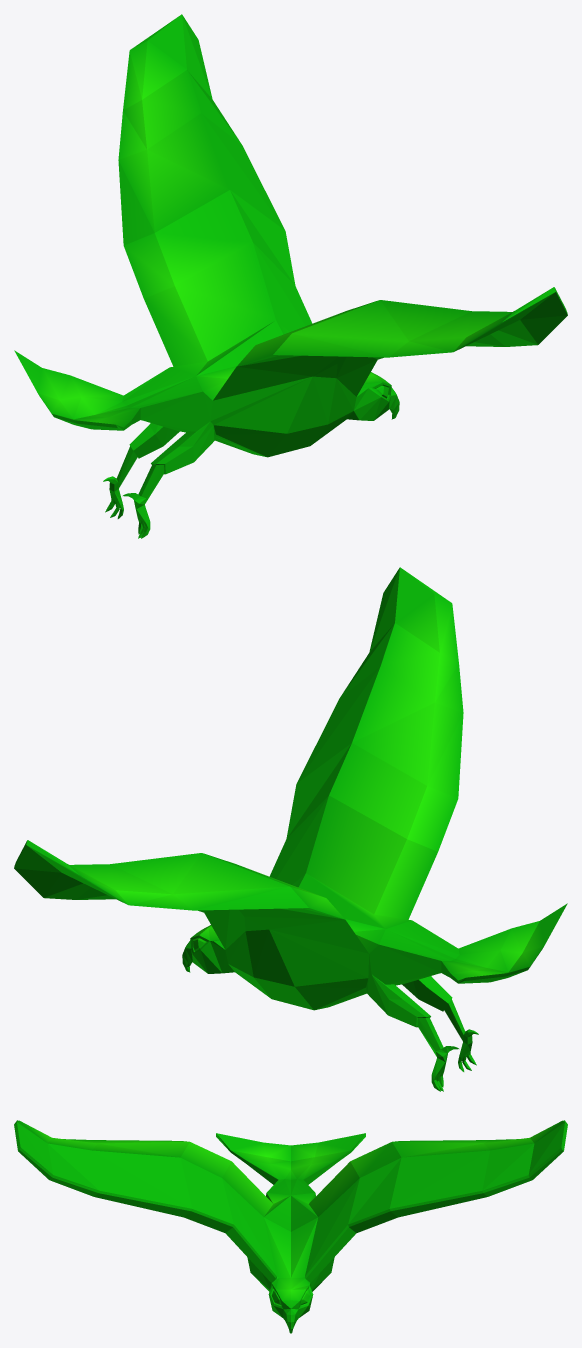
Rendered from bird.dae.
3 views of the same model, one above another, from view 1: azimuth 30°, elevation 25°; view 2: azimuth 150°, elevation 25°; view 3: azimuth 270°, elevation 25° (orthographic). The views are drawn at different scales.
Parts seen in each view (by area): view 1: node; view 2: node; view 3: node.
Boxes of the visible parts, x1,y1,x2,y2 form: node: (14, 14, 567, 538); node: (14, 567, 567, 1091); node: (14, 1120, 567, 1333).
Bounding box in the file's own units: 0.08 × 0.15 × 0.07.
